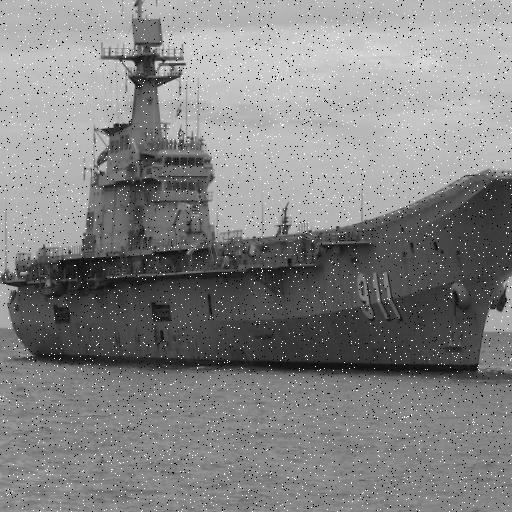Portanaves: (1, 1, 512, 389)
